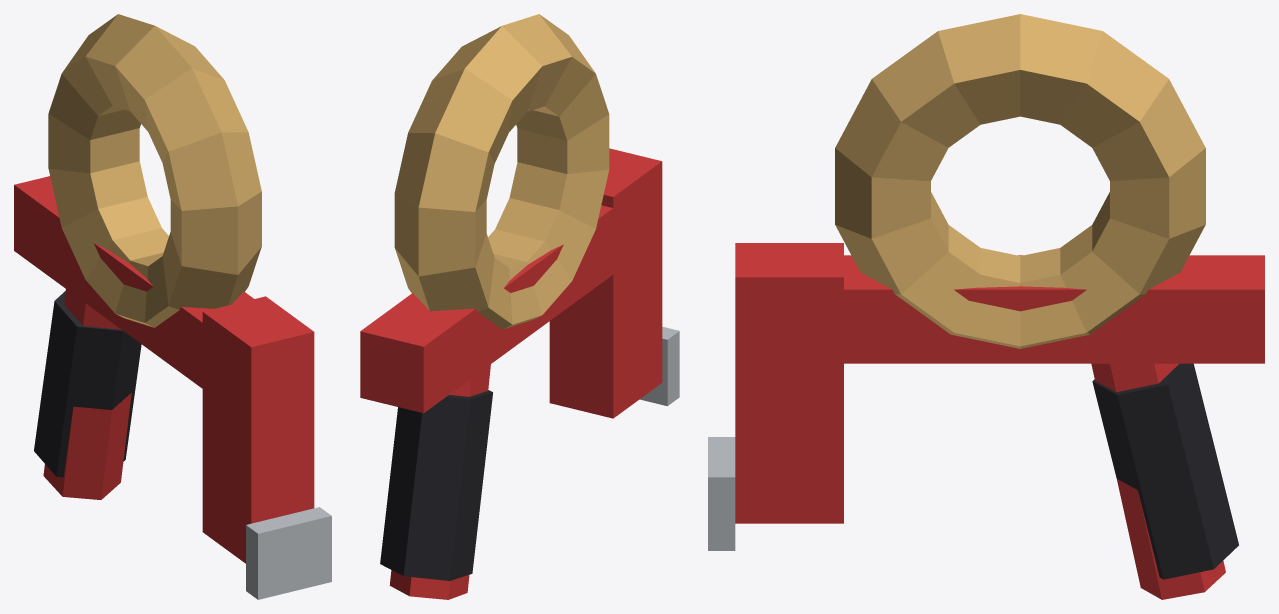
File: TapeGun.fbx
3 views of the same model, side by side, from view 1: azimuth 30°, elevation 25°; view 2: azimuth 150°, elevation 25°; view 3: azimuth 270°, elevation 25° (orthographic). The views are drawn at different scales.
Parts seen in each view (by area): view 1: Tape, Frame, Grip, Blade; view 2: Tape, Frame, Grip, Blade; view 3: Tape, Frame, Grip, Blade.
Boxes of the visible parts, x1,y1,x2,y2 form: Tape: [48, 14, 261, 327]; Frame: [14, 176, 314, 563]; Grip: [34, 291, 141, 477]; Blade: [246, 507, 331, 599]; Tape: [394, 14, 609, 329]; Frame: [360, 148, 662, 599]; Grip: [380, 390, 492, 580]; Blade: [640, 326, 679, 406]; Tape: [835, 14, 1205, 348]; Frame: [735, 243, 1264, 599]; Grip: [1092, 363, 1238, 579]; Blade: [708, 437, 735, 550].
Bounding box in the file's own units: 0.3804 × 2.33 × 2.05.
